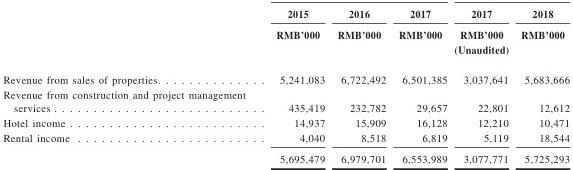column: (3, 1, 267, 170), (454, 1, 510, 170), (276, 1, 326, 170), (521, 1, 571, 170), (337, 1, 386, 170), (399, 1, 448, 170)
row: (1, 90, 573, 102), (1, 8, 573, 18), (1, 30, 573, 40), (1, 45, 573, 55), (1, 75, 573, 85), (1, 104, 573, 114), (1, 119, 573, 129), (1, 155, 573, 164), (1, 134, 572, 143)
